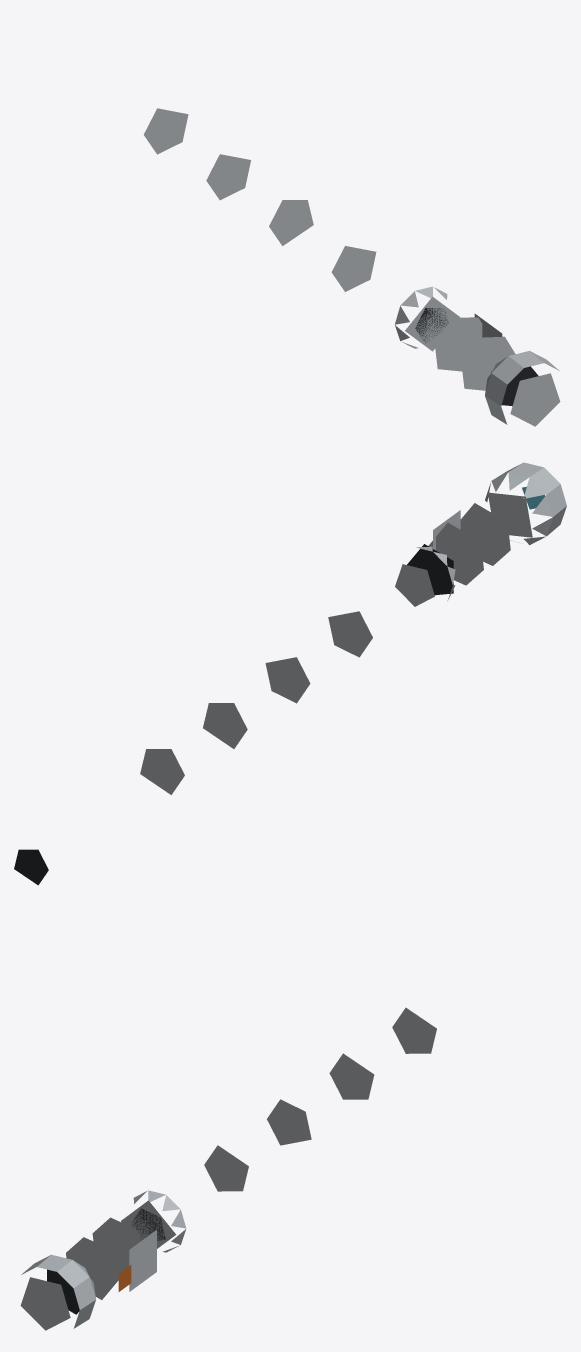
Rendered from saber-pike.lod.glb.
3 renders of one model, top to bottom at view 1: azimuth 30°, elevation 25°; view 2: azimuth 150°, elevation 25°; view 3: azimuth 330°, elevation 25°, orthographic.
Visible parts, largest first — view 1: m; view 2: m; view 3: m.
Part boxes in pixels (bbox=[...]): m: bbox=[143, 108, 560, 426]; m: bbox=[14, 462, 566, 885]; m: bbox=[20, 1007, 436, 1330].
Bounding box in the file's own units: 0.0267 × 0.0253 × 0.3401.
